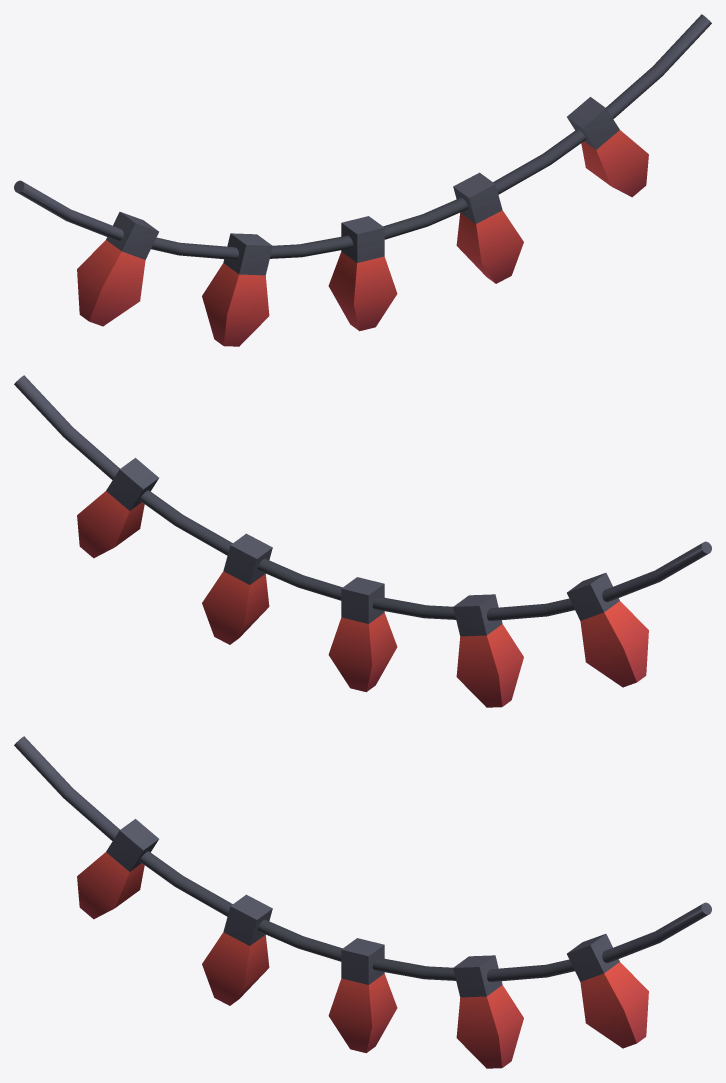
The model's file is lights-red.glb.
3 renders of one model, top to bottom at view 1: azimuth 30°, elevation 25°; view 2: azimuth 150°, elevation 25°; view 3: azimuth 330°, elevation 25°, orthographic.
Parts seen in each view (by area): view 1: lights-red; view 2: lights-red; view 3: lights-red.
Boxes of the visible parts, left/top/right/bottom form: lights-red: left=14, top=14, right=711, bottom=346; lights-red: left=14, top=375, right=711, bottom=707; lights-red: left=14, top=736, right=711, bottom=1068.
Bounding box in the file's own units: 1.01 × 0.3162 × 0.0636.
1 material, 1 textured.
